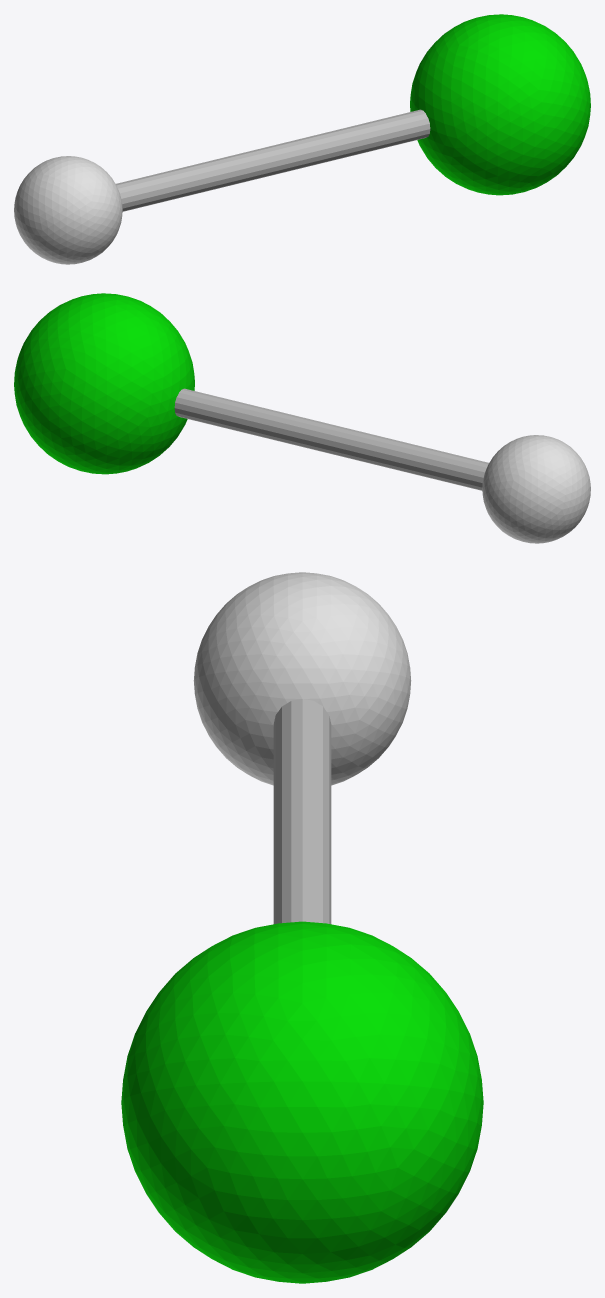
3 renders of one model, top to bottom at view 1: azimuth 30°, elevation 25°; view 2: azimuth 150°, elevation 25°; view 3: azimuth 270°, elevation 25°, orthographic. The views are drawn at different scales.
Parts seen in each view (by area): view 1: world; view 2: world; view 3: world.
Part boxes in pixels (bbox=[...]): world: bbox=[14, 14, 590, 264]; world: bbox=[14, 293, 590, 543]; world: bbox=[121, 572, 483, 1283].
Bounding box in the file's own units: 1.78 × 0.5 × 0.5.
